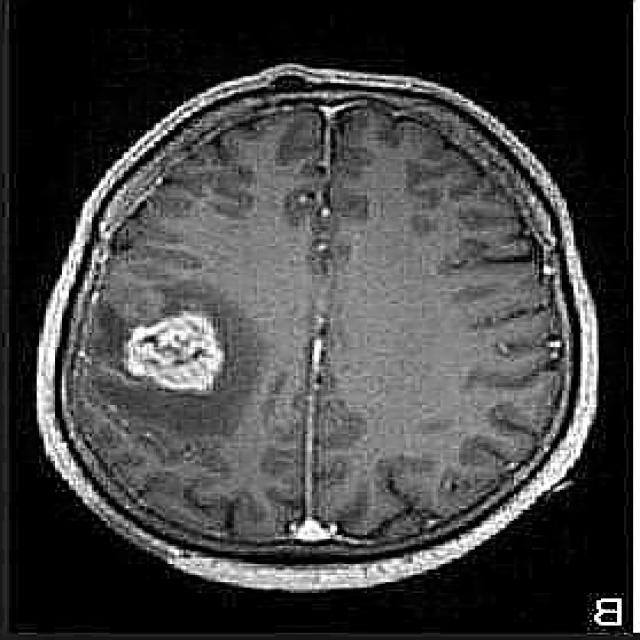Tumor-Cell: (114, 278, 226, 409)
